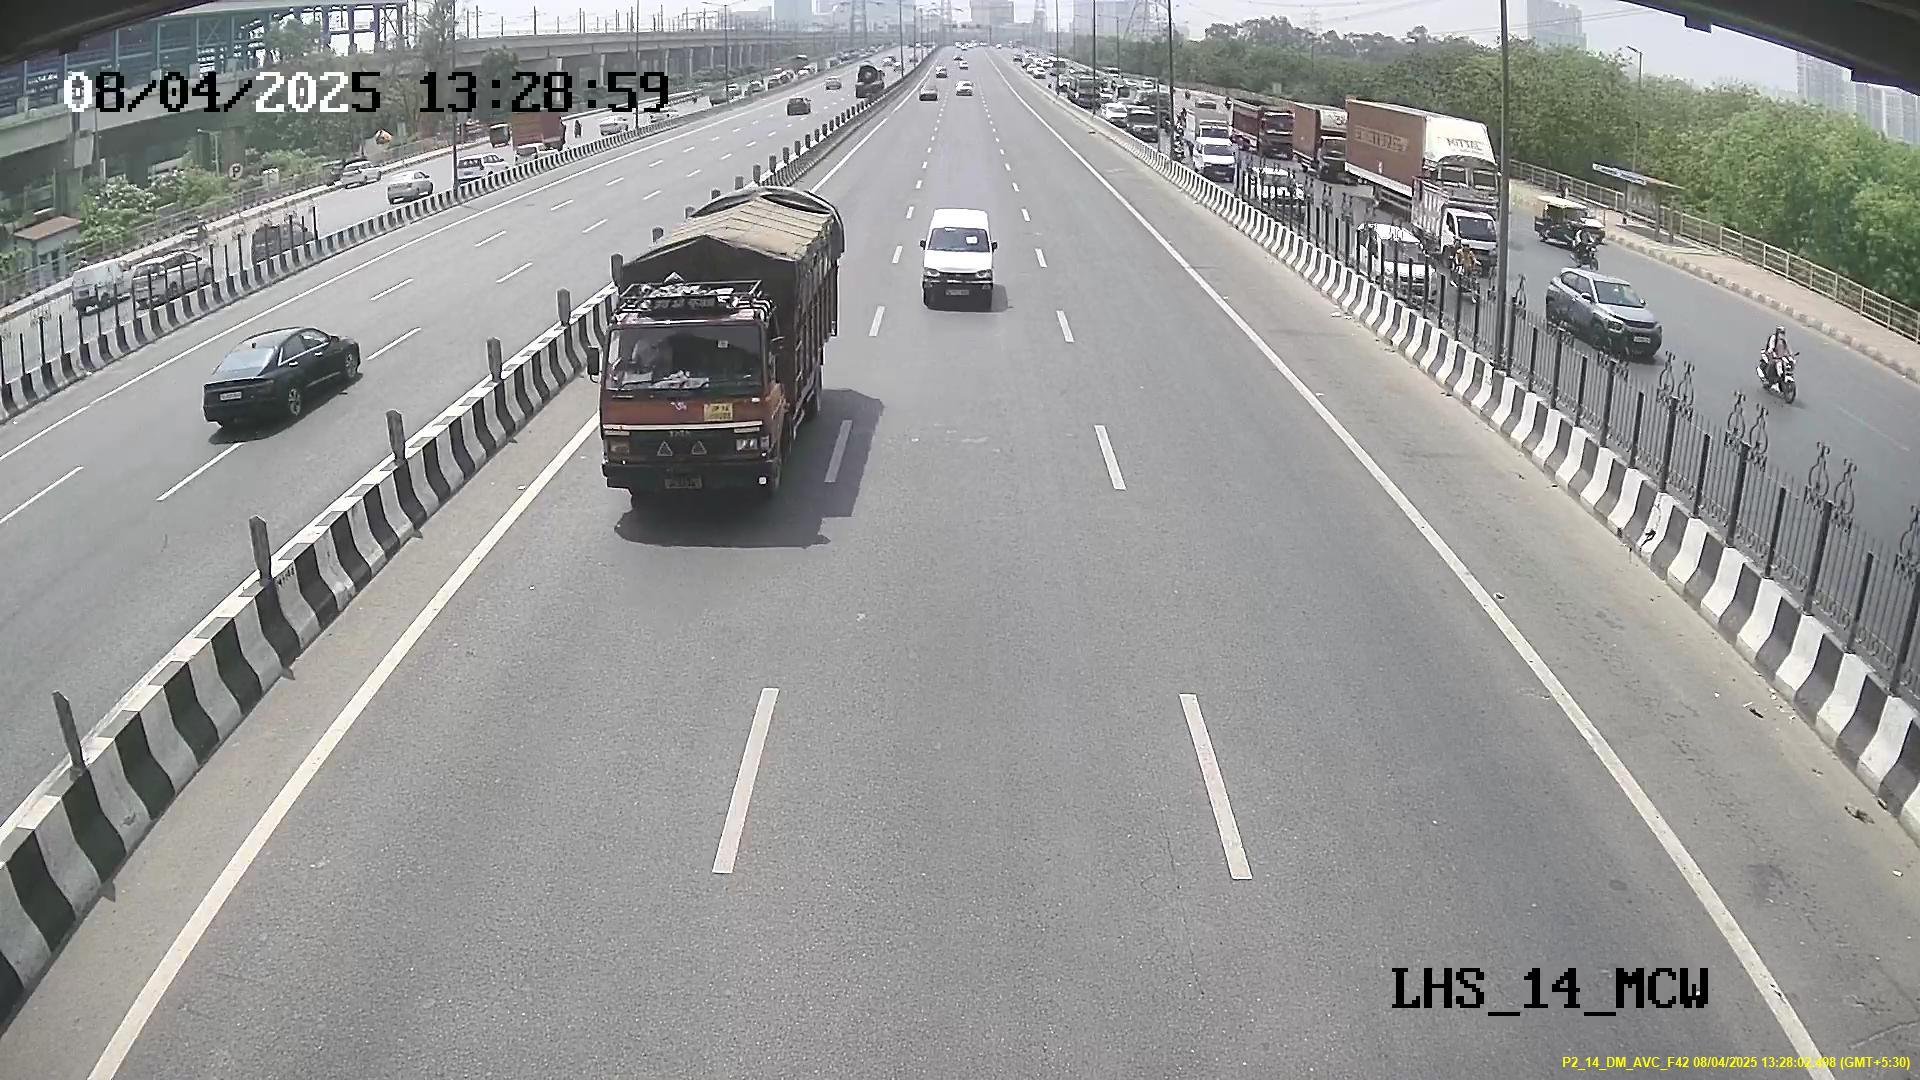car: (911, 214, 1009, 310)
lcv: (599, 307, 779, 500)
